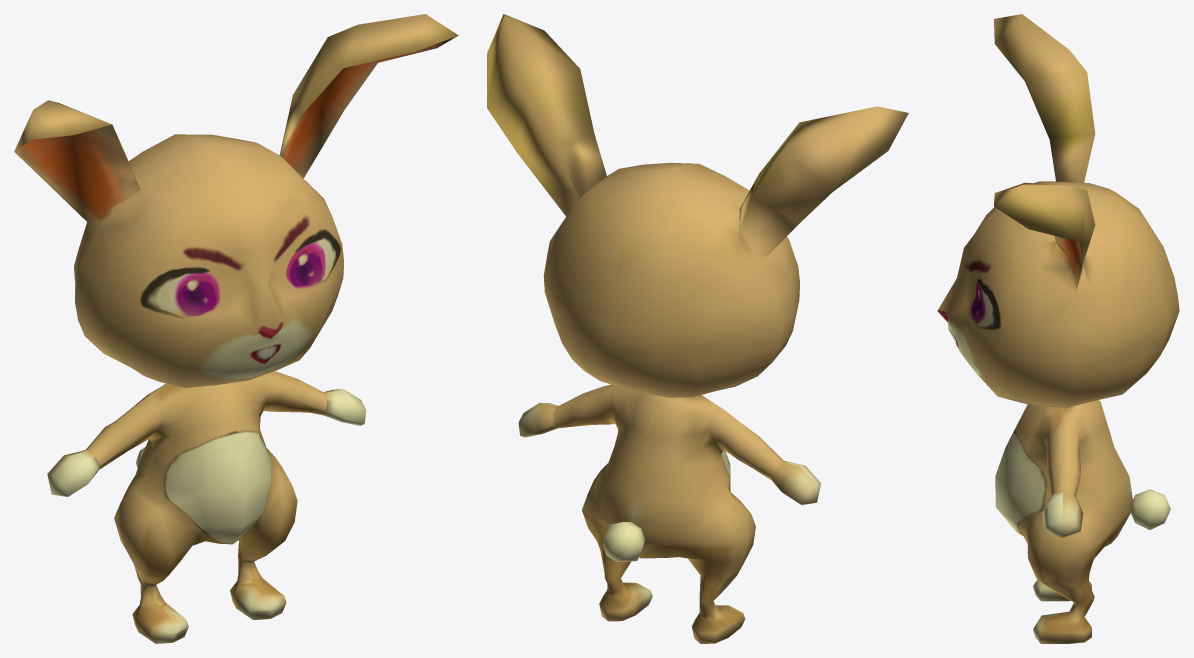
Rendered from rabbit.FBX.
The picture shows the model from 3 angles, left to right: view 1: azimuth 30°, elevation 25°; view 2: azimuth 150°, elevation 25°; view 3: azimuth 270°, elevation 25°; orthographic projection. The views are drawn at different scales.
Parts seen in each view (by area): view 1: Head, Body; view 2: Head, Body; view 3: Head, Body.
Boxes of the visible parts, x1,y1,x2,y2 form: Head: (14,14,458,387); Body: (47,371,366,643); Head: (487,14,908,397); Body: (518,384,820,643); Head: (937,14,1179,407); Body: (995,400,1170,643).
Bounding box in the file's own units: 74.12 × 95.16 × 40.48.
Materials: 2 (2 with a texture image).
